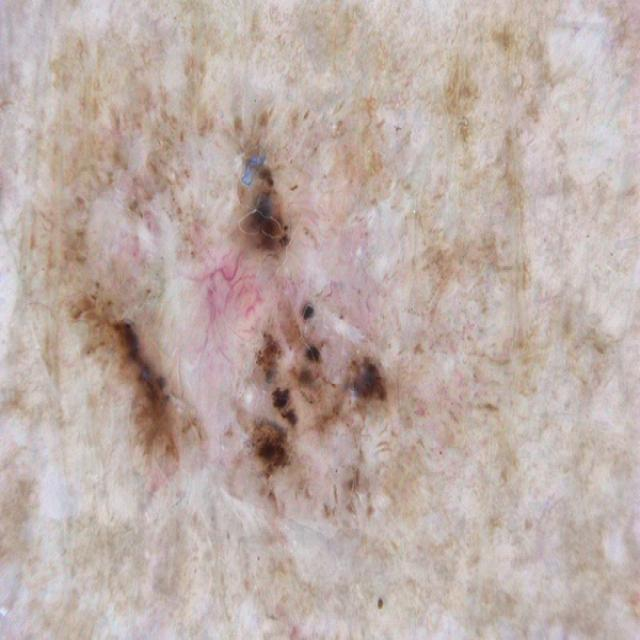Basal-Cell-Carcinoma-BCC-: (40, 62, 585, 539)
